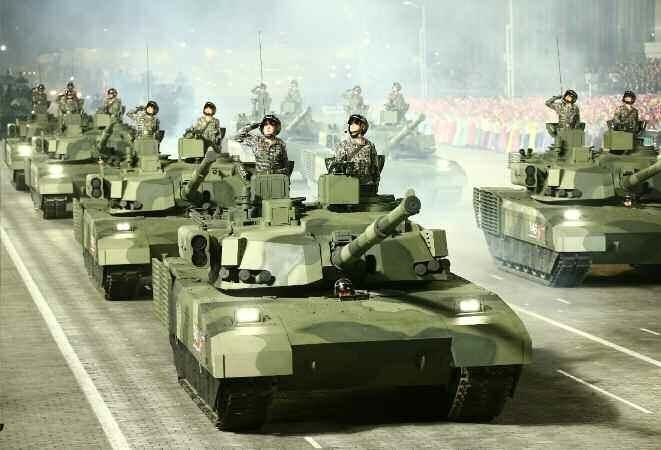MIL_IFV: (153, 178, 533, 439), (472, 126, 661, 287)
